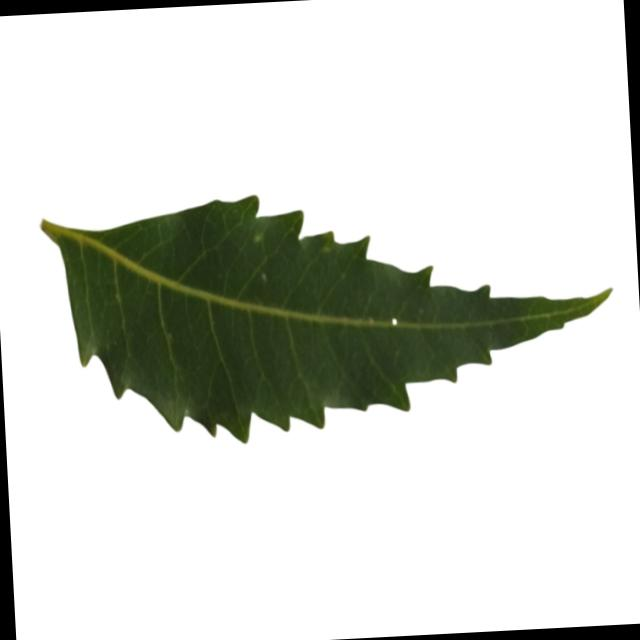Medicinal-Neem: (39, 175, 620, 452)
